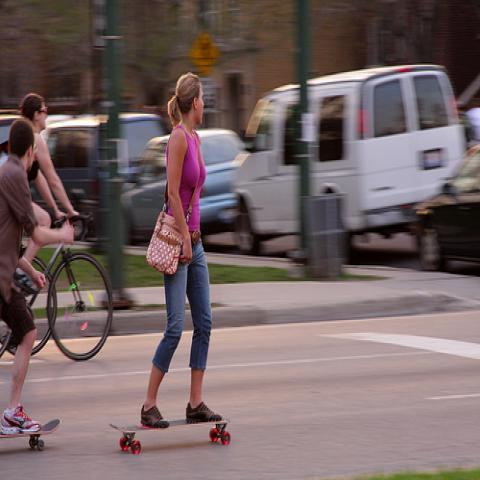car: (230, 63, 468, 261), (43, 112, 163, 240), (120, 127, 242, 244), (410, 144, 480, 274), (0, 123, 11, 171)
